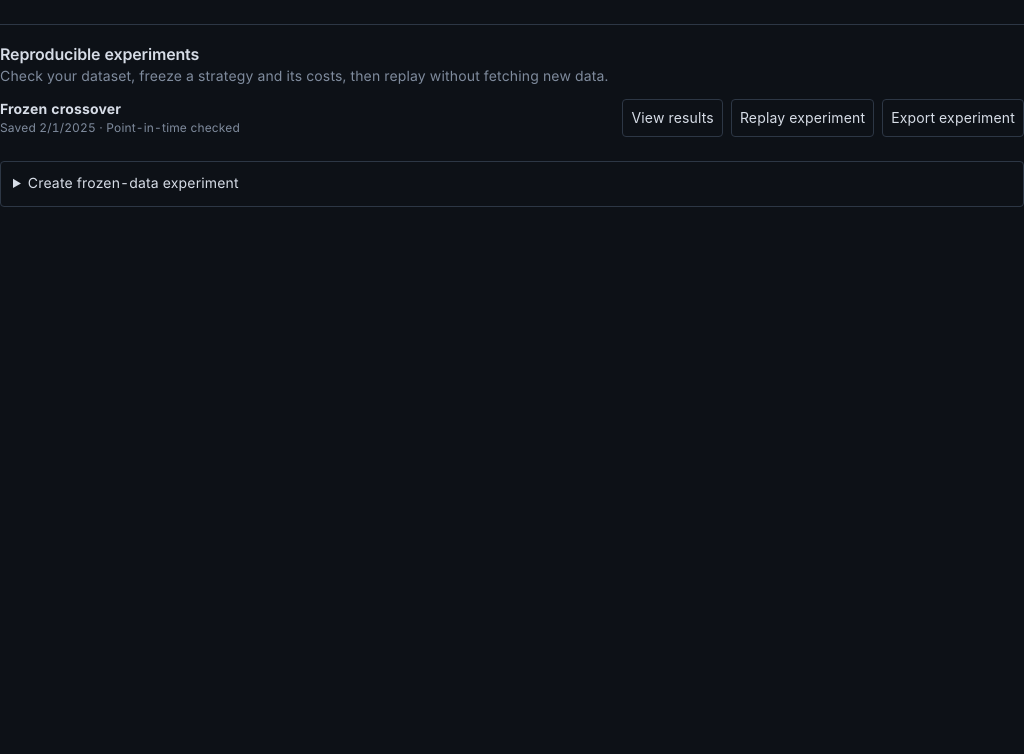
Test case: saved experiment comparison › announces snapshot loading and a successful replay without duplicating the table
Later steps or results of the test are not shown.
Click the button "View results": point(673, 118) 622,99 -> 723,137
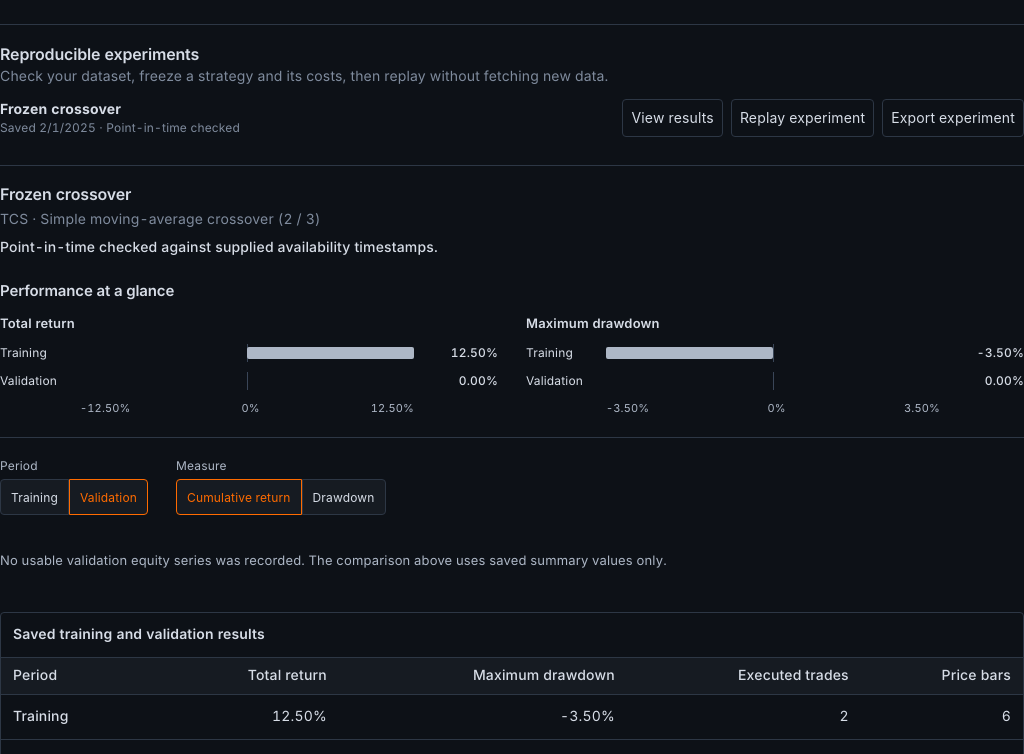
Click the button "Replay experiment": point(802, 118) 731,99 -> 874,137
(page scrolled)
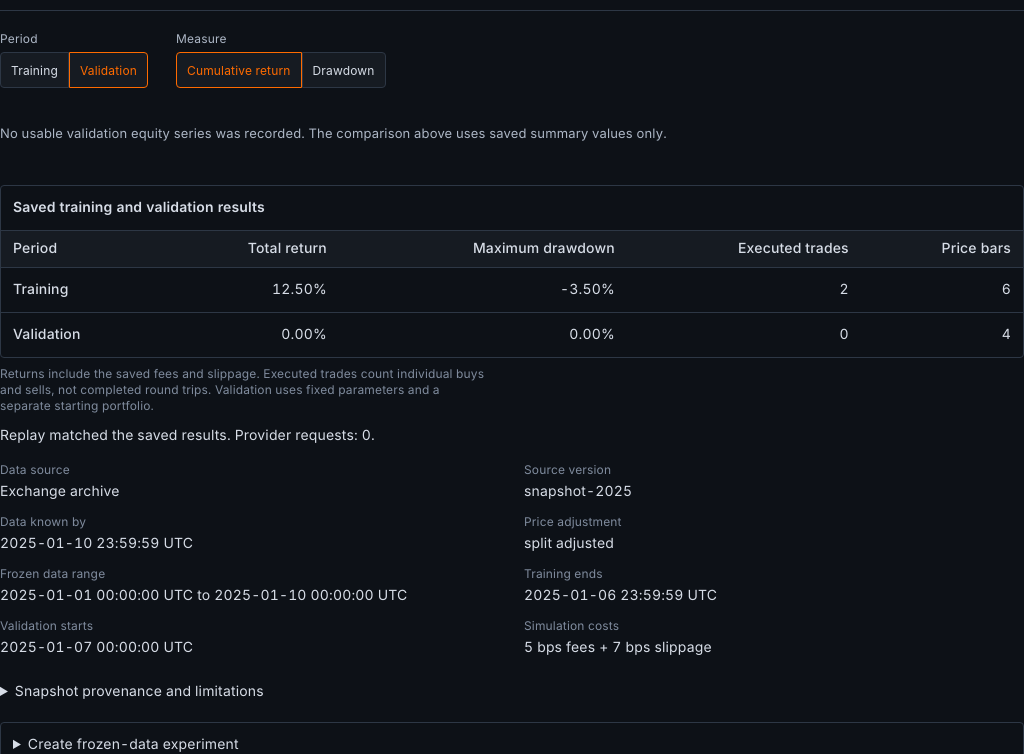
Result: the message shows "Replay matched" at 0,427 -> 231,444
